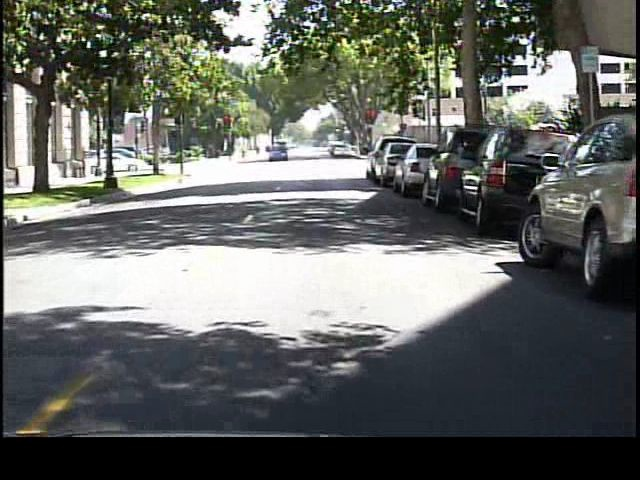person: (237, 141, 250, 164)
